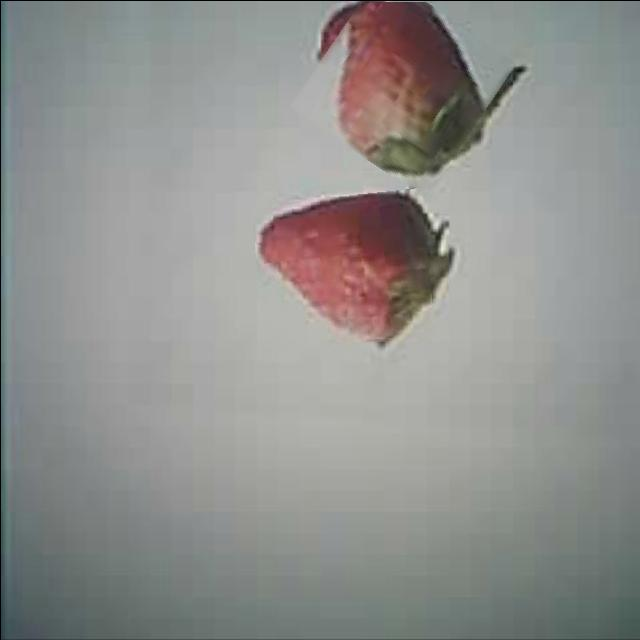strawberry: (305, 0, 500, 182), (252, 192, 430, 346)
